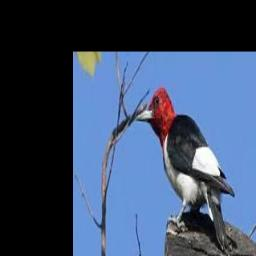Woodpecker: (136, 87, 234, 250)
